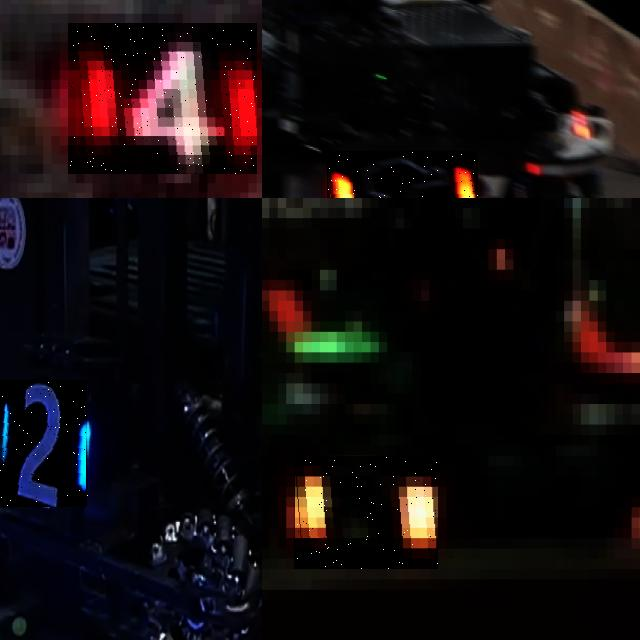B2: (0, 379, 88, 507)
R4: (68, 23, 257, 174)
Rs: (294, 456, 438, 569), (326, 151, 478, 198)
